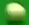white: (0, 0, 29, 25)
